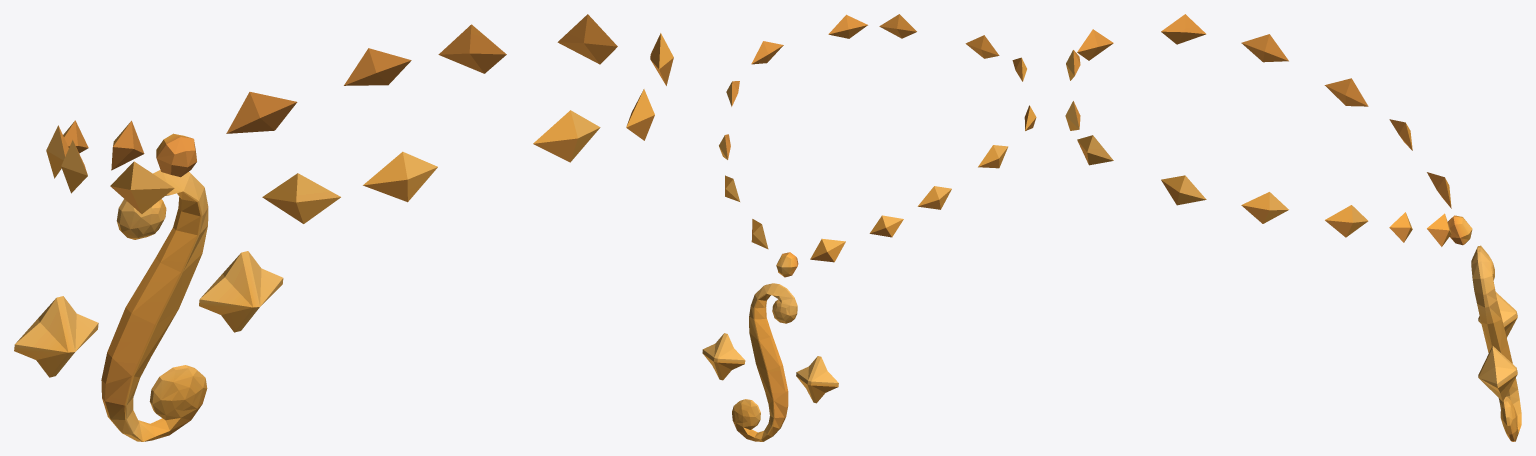
File: CharSkyKid_Neck_AP23Pendant.glb
3 views of the same model, side by side, from view 1: azimuth 30°, elevation 25°; view 2: azimuth 150°, elevation 25°; view 3: azimuth 270°, elevation 25° (orthographic). The views are drawn at different scales.
Parts seen in each view (by area): view 1: CharSkyKid_Neck_AP23Pendant; view 2: CharSkyKid_Neck_AP23Pendant; view 3: CharSkyKid_Neck_AP23Pendant.
Boxes of the visible parts, x1,y1,x2,y2 form: CharSkyKid_Neck_AP23Pendant: (14, 14, 673, 441); CharSkyKid_Neck_AP23Pendant: (702, 14, 1036, 441); CharSkyKid_Neck_AP23Pendant: (1065, 14, 1521, 441).
Bounding box in the file's own units: 1.79 × 1.79 × 2.07.
Materials: 1 (1 with a texture image).
